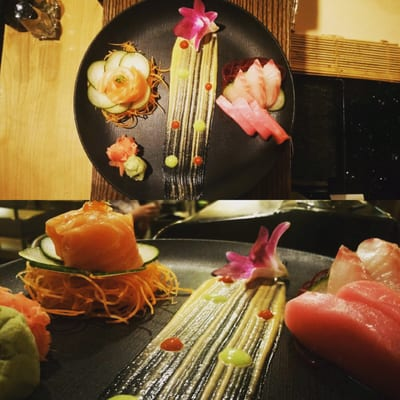burger: (283, 237, 400, 399)
